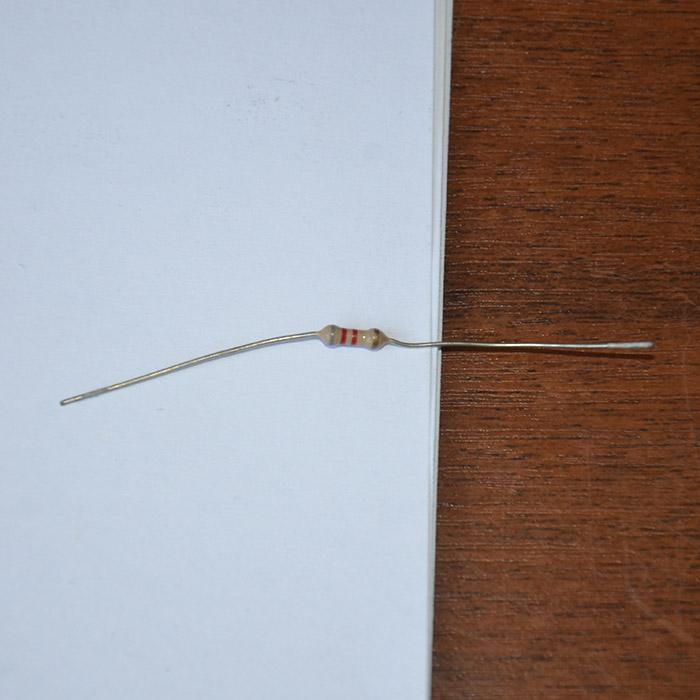resistor: (319, 323, 386, 350)
